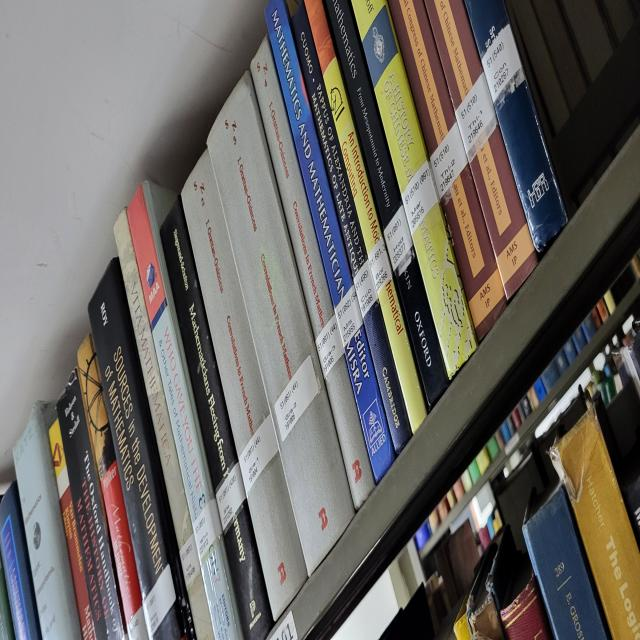Book: (208, 73, 354, 574), (268, 0, 394, 482), (181, 149, 308, 620), (251, 38, 375, 509), (291, 16, 411, 455), (128, 184, 242, 639), (325, 0, 449, 406), (312, 3, 426, 433), (161, 198, 272, 639), (354, 0, 475, 379), (114, 208, 214, 639), (89, 257, 195, 639), (389, 0, 505, 338), (426, 0, 538, 300), (465, 0, 568, 252)
Label: (275, 354, 319, 441), (455, 73, 498, 162), (482, 24, 525, 108), (239, 414, 278, 495), (430, 122, 468, 198), (401, 162, 439, 235), (142, 565, 176, 639), (216, 463, 246, 530), (384, 206, 412, 276), (192, 498, 222, 560), (316, 314, 344, 379), (335, 287, 362, 349), (354, 260, 378, 319), (369, 238, 391, 295), (180, 533, 200, 587)
